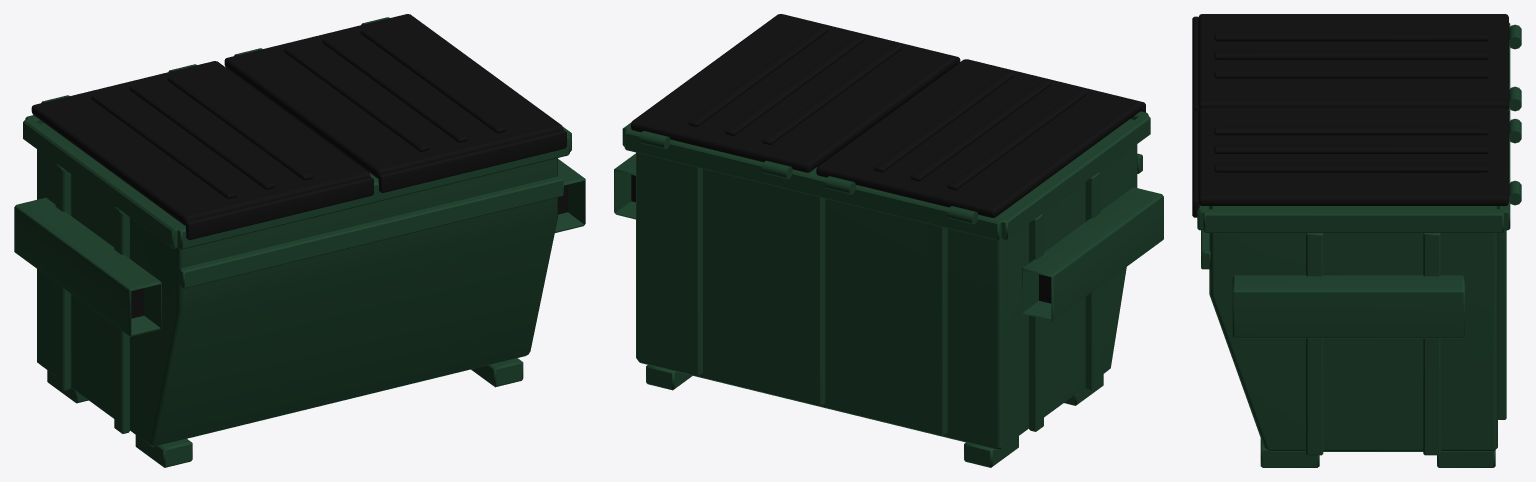
Rendered from dumpster.glb.
The picture shows the model from 3 angles, left to right: view 1: azimuth 30°, elevation 25°; view 2: azimuth 150°, elevation 25°; view 3: azimuth 270°, elevation 25°; orthographic projection. The views are drawn at different scales.
Parts seen in each view (by area): view 1: dumpster; view 2: dumpster; view 3: dumpster.
Part boxes in pixels (x1,y1,x2,y2): dumpster: (14, 14, 585, 467); dumpster: (614, 14, 1163, 467); dumpster: (1192, 14, 1521, 467).
Size of the model in its own units: 2.16 by 1.27 by 1.35.
